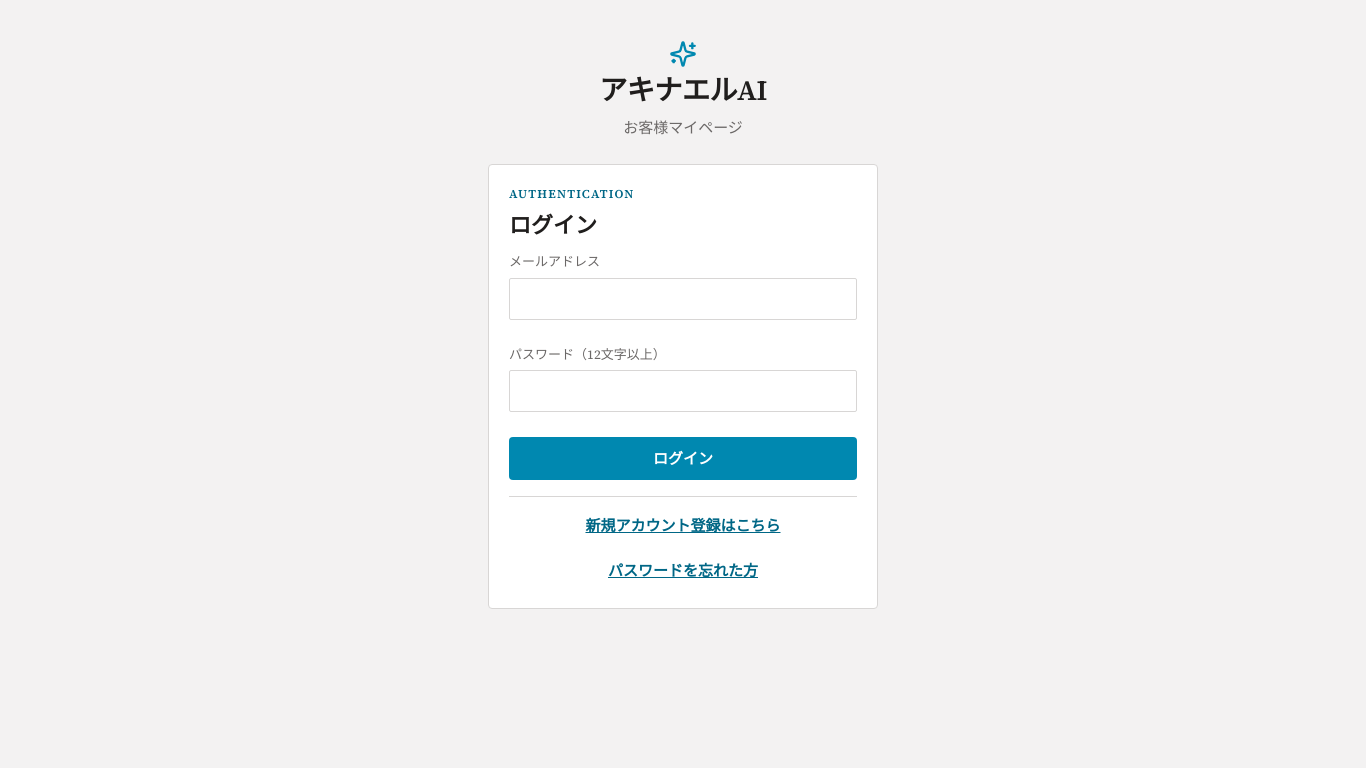
Test: normal login regression › a fresh login reaches the Home screen with real production/consultation state, not mock data
Type "customer@example.com" into the field labelled "メールアドレス" at [683, 299], box [509, 278, 857, 320]
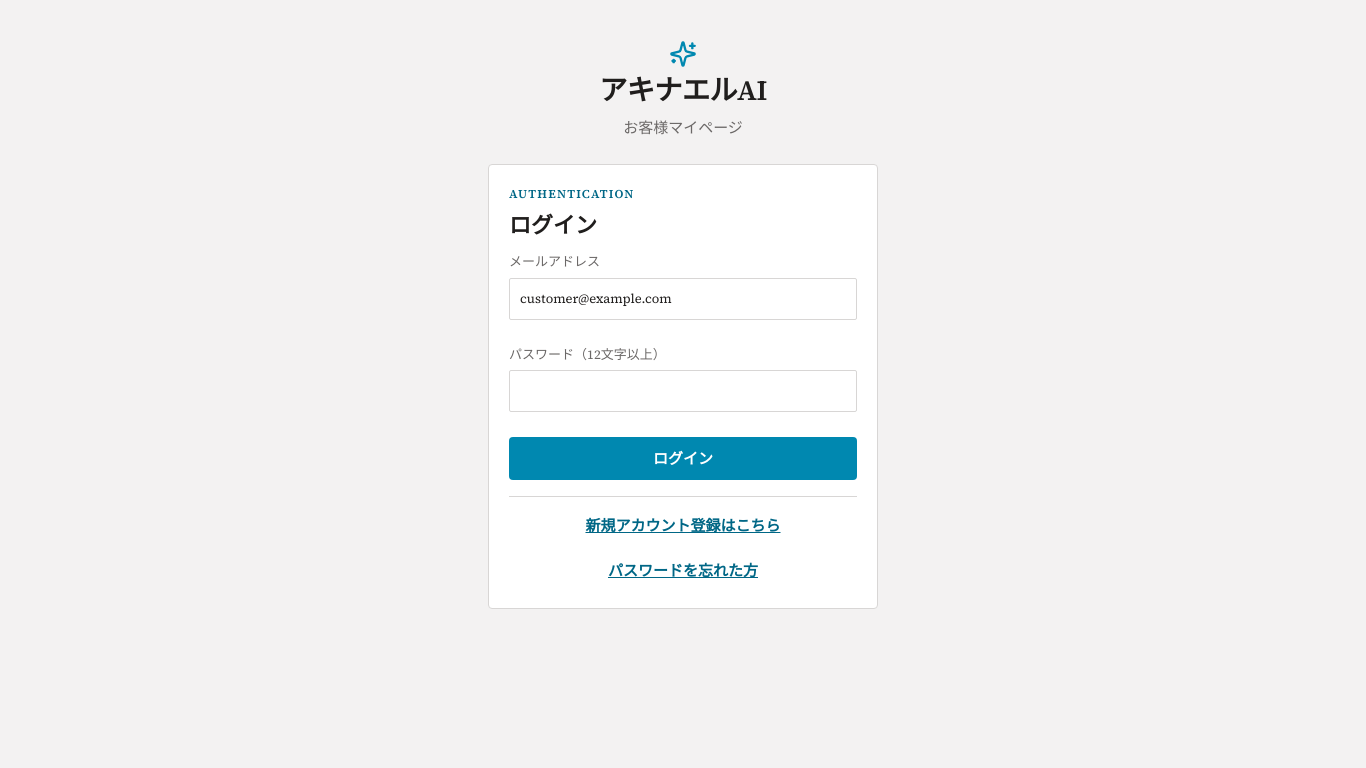
Type "a-very-long-password-123" into the password field labelled "パスワード（12文字以上）" at [683, 391], box [509, 370, 857, 412]
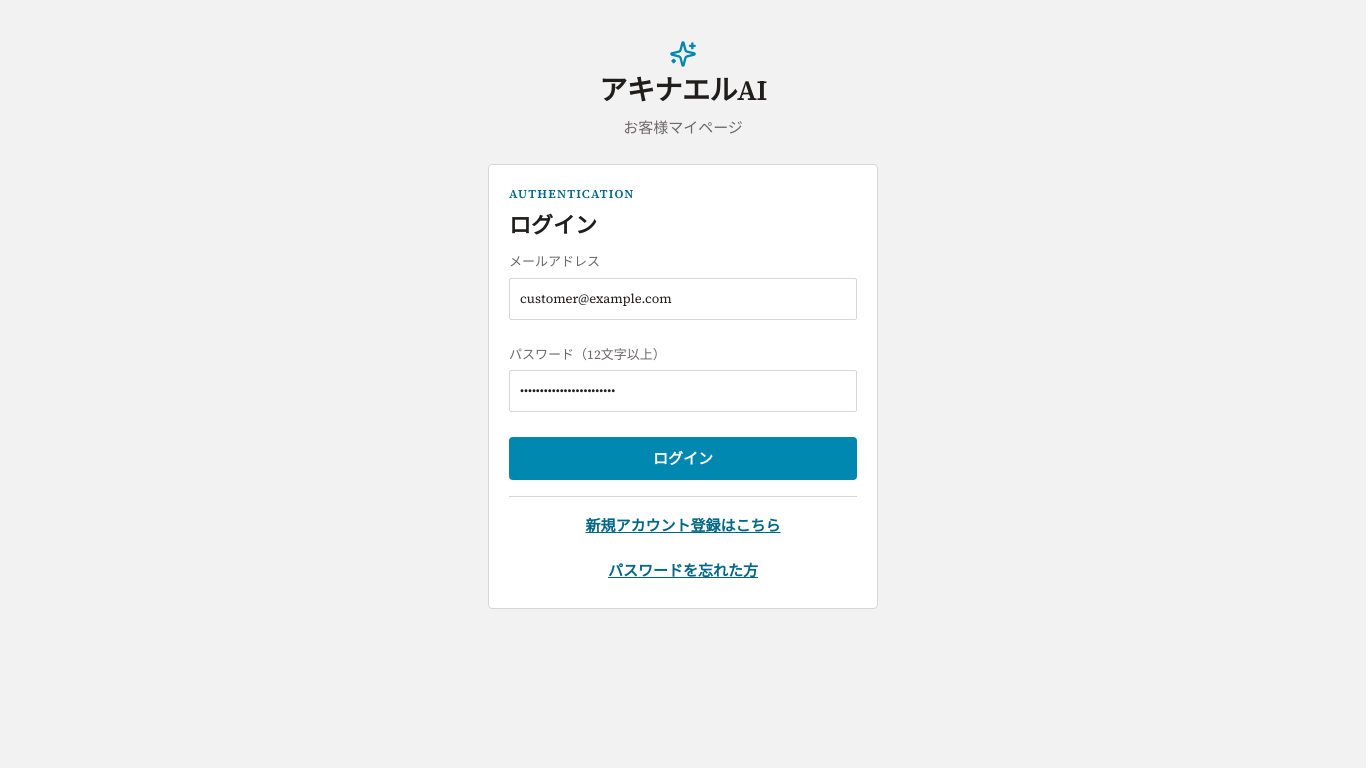
Click the button "ログイン" at [683, 459], box [509, 437, 857, 480]
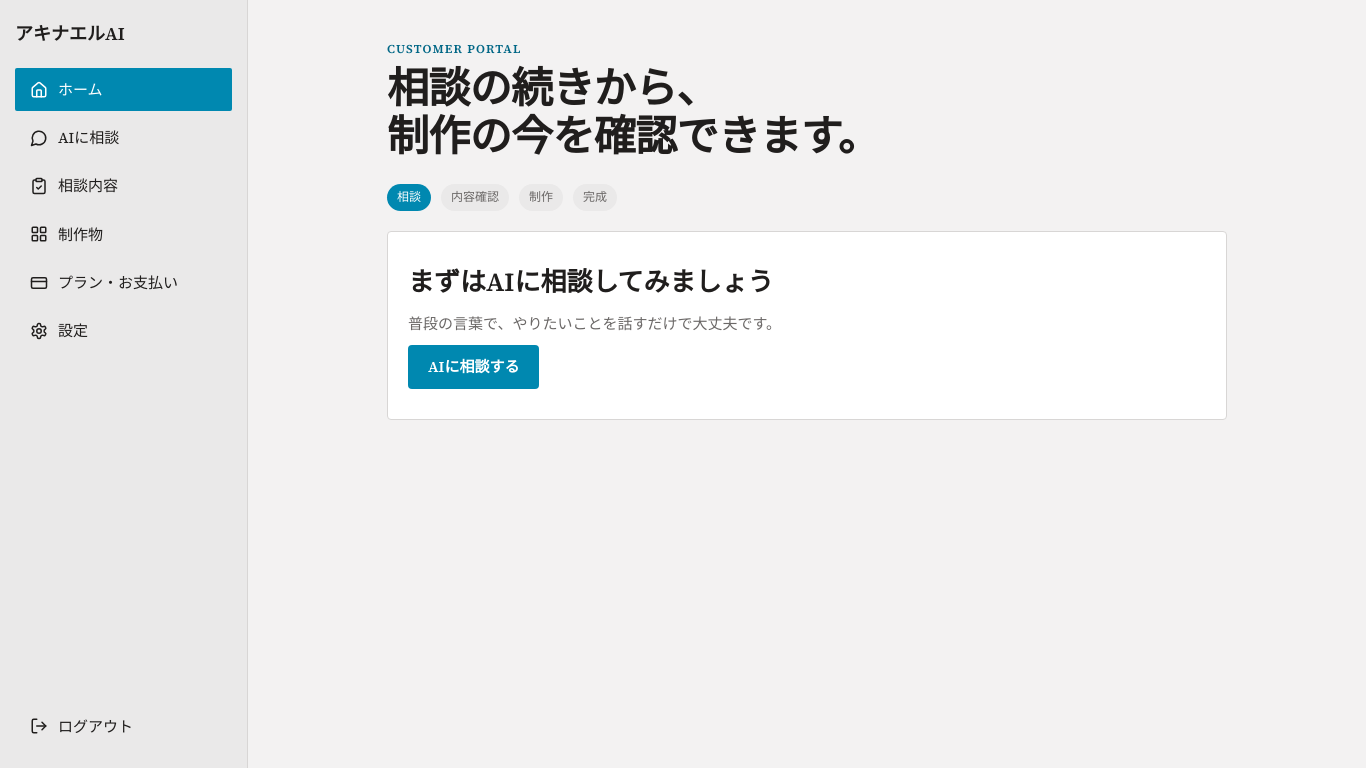
Expected: the heading "まずはAIに相談してみましょう" is shown, [408, 264, 774, 300]
